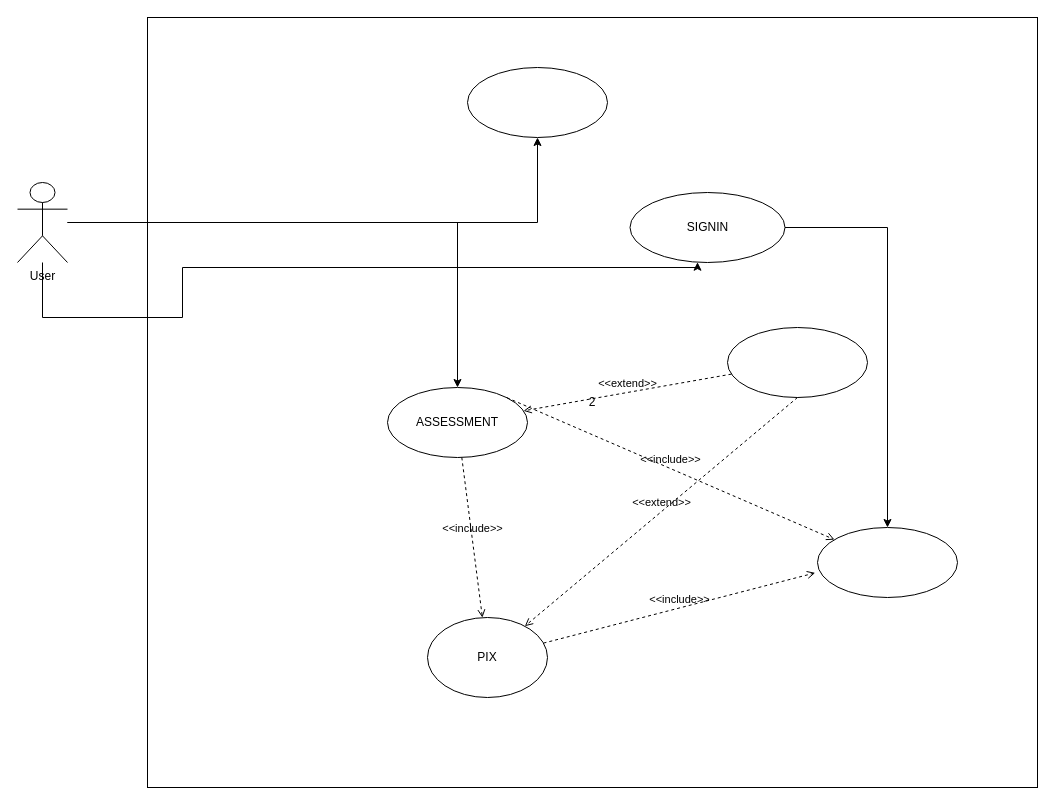
Image size: 1055x805. Some labels were removed from this diagram. The centre of each missing label's shape, as x and y in pixels:
CRUD: the point at 797,362
SIGN UP: the point at 537,102
USER AUTHENTICATION: the point at 887,562
